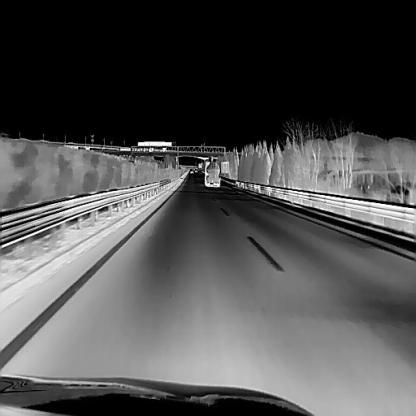car: (204, 161, 220, 186)
